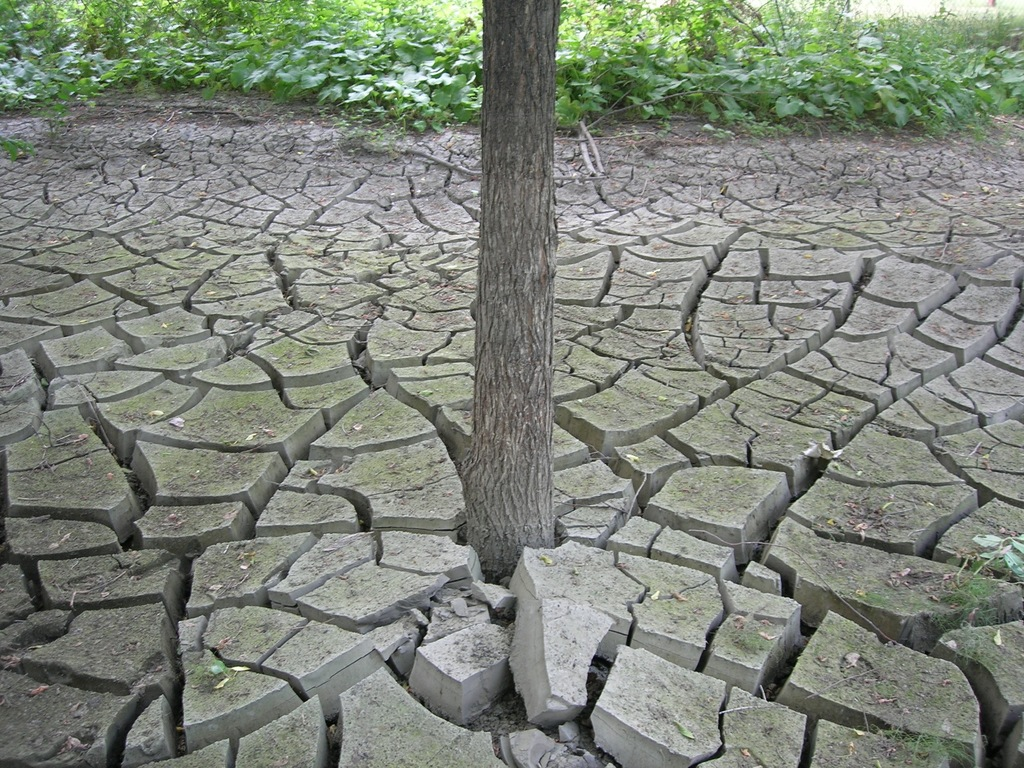Tree: (461, 0, 559, 585)
